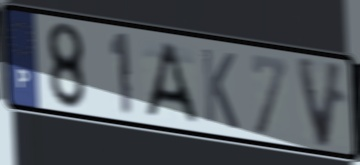1: (108, 30, 135, 119)
7: (249, 52, 291, 139)
8: (45, 20, 87, 112)
A: (142, 39, 200, 127)
K: (199, 44, 241, 133)
V: (293, 52, 348, 152)
